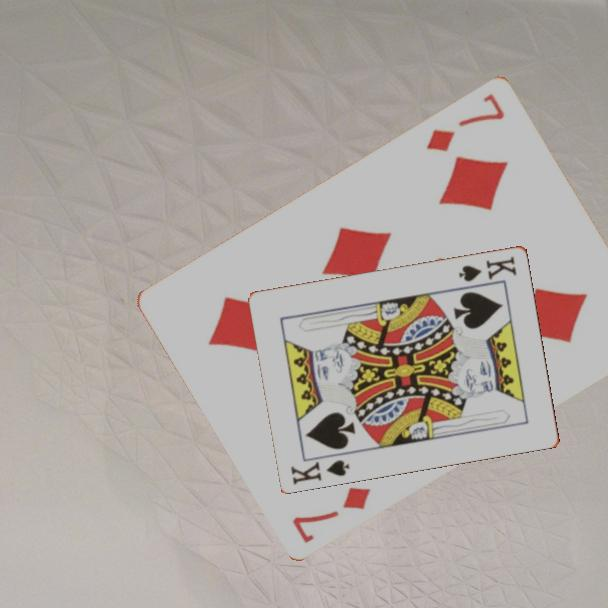d07: (423, 89, 508, 155), (288, 482, 374, 546)
s13: (455, 252, 520, 284), (288, 456, 353, 487)
